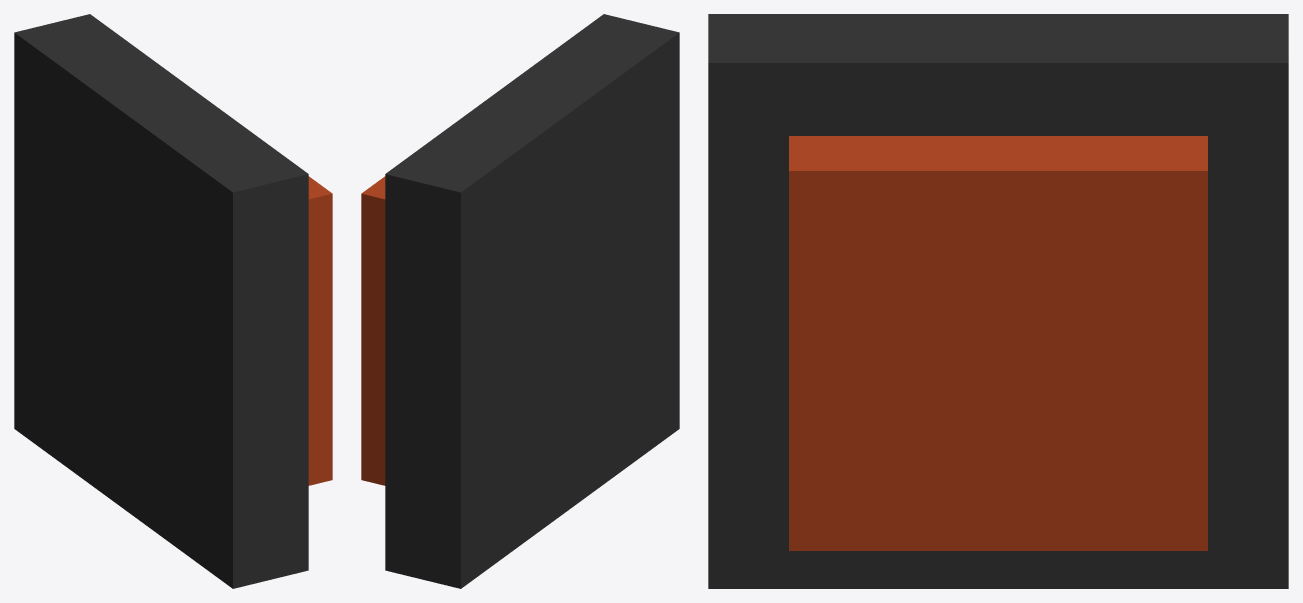
File: Button.fbx
3 renders of one model, left to right at view 1: azimuth 30°, elevation 25°; view 2: azimuth 150°, elevation 25°; view 3: azimuth 270°, elevation 25°, orthographic. The views are drawn at different scales.
Visible parts, largest first — view 1: Cube; view 2: Cube; view 3: Cube.
Boxes of the visible parts, x1,y1,x2,y2 form: Cube: [14, 14, 332, 588]; Cube: [361, 14, 679, 588]; Cube: [708, 14, 1288, 588].
Size of the model in its own units: 6.86 by 20 by 20.
